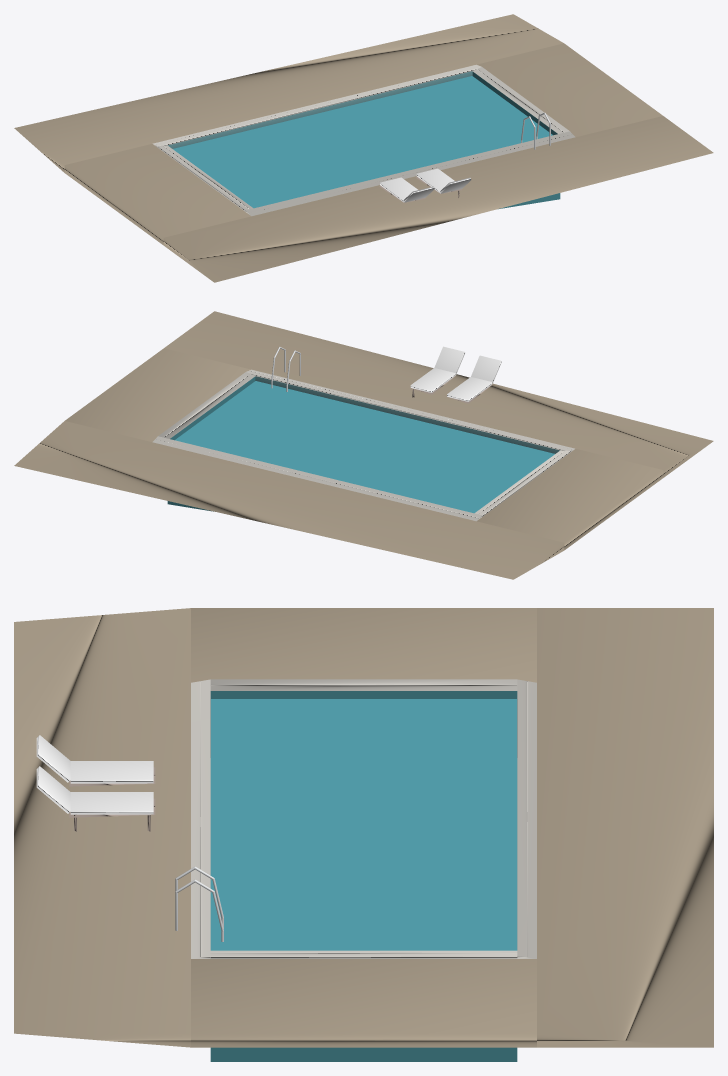
The model's file is swimming-pool.zfix-v1.lod1.glb.
3 views of the same model, one above another, from view 1: azimuth 30°, elevation 25°; view 2: azimuth 150°, elevation 25°; view 3: azimuth 270°, elevation 25° (orthographic). The views are drawn at different scales.
Parts seen in each view (by area): view 1: Object_5, Object_23; view 2: Object_5, Object_23; view 3: Object_5, Object_23, Object_21.
Part boxes in pixels (left/top/right/bottom): Object_5: left=14, top=14, right=713, bottom=282; Object_23: left=379, top=168, right=471, bottom=202; Object_5: left=14, top=311, right=713, bottom=579; Object_23: left=410, top=346, right=501, bottom=403; Object_5: left=14, top=608, right=713, bottom=1061; Object_23: left=36, top=735, right=155, bottom=831; Object_21: left=175, top=866, right=223, bottom=941.
Bounding box in the file's own units: 16.4 × 2.97 × 11.4.
3 materials, 1 textured.
